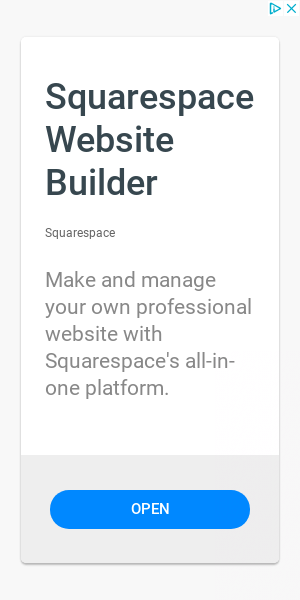fake_button: (35, 477, 266, 561)
